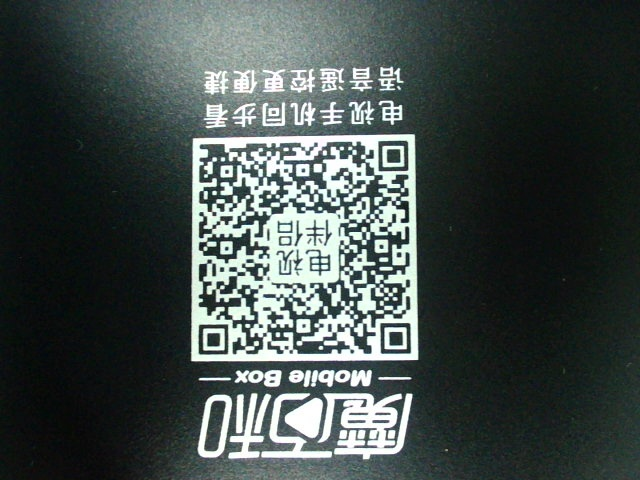AZ_MobileBox: (172, 63, 439, 461)
